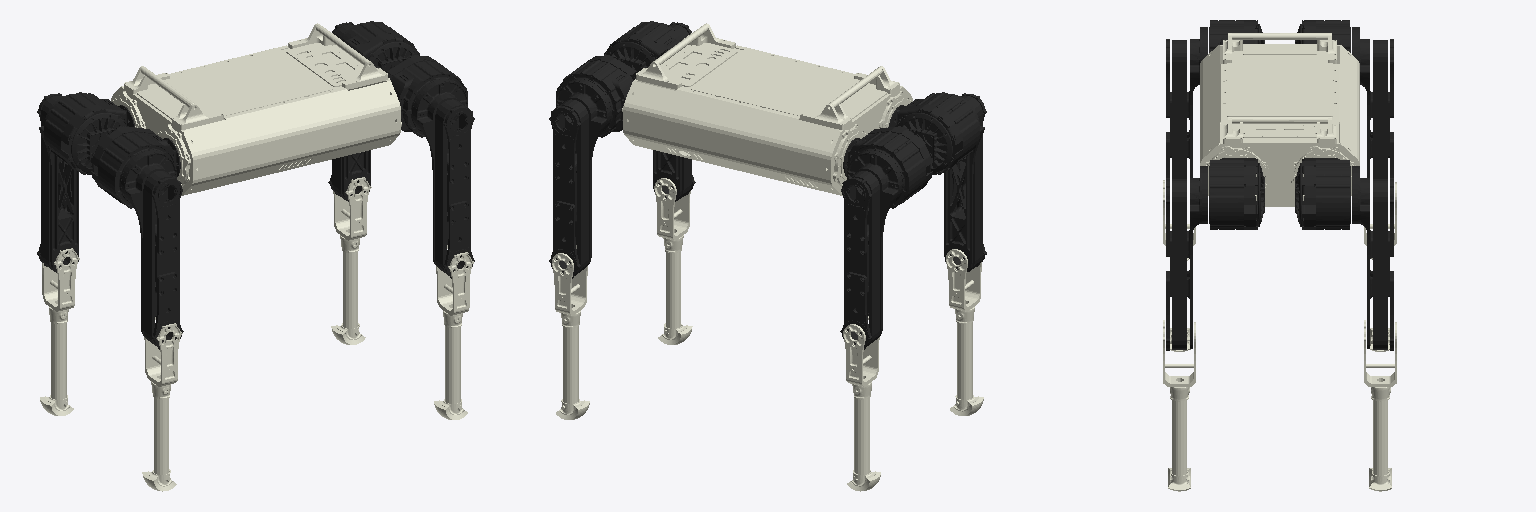
The robot description file, URDF, robot "Hound_description":
<?xml version="1.0" ?>

<robot name="Hound_description" xmlns:xacro="http://www.ros.org/wiki/xacro">
  <material name="black">
    <color rgba="0.0 0.0 0.0 1.0"/>
  </material>
  <material name="blue">
    <color rgba="0.0 0.0 0.8 1.0"/>
  </material>
  <material name="green">
    <color rgba="0.0 0.8 0.0 1.0"/>
  </material>
  <material name="grey">
    <color rgba="0.2 0.2 0.2 1.0"/>
  </material>
  <material name="silver">
    <color rgba="0.913725490196 0.913725490196 0.847058823529 1.0"/>
  </material>
  <material name="orange">
    <color rgba="1.0 0.423529411765 0.0392156862745 1.0"/>
  </material>
  <material name="brown">
    <color rgba="0.870588235294 0.811764705882 0.764705882353 1.0"/>
  </material>
  <material name="red">
    <color rgba="0.8 0.0 0.0 1.0"/>
  </material>
  <material name="white">
    <color rgba="1.0 1.0 1.0 1.0"/>
  </material>

  <link name="trunk">
    <visual>
      <origin rpy="0 0 0" xyz="0 0 0"/>
      <geometry>
        <mesh filename="base.stl" scale="1 1 1"/>
      </geometry>
      <material name="silver"/>
    </visual>
    <collision>
      <origin rpy="0 0 0" xyz="0 0 0"/>
      <geometry>
        <box size="0.55800000 0.28000000 0.16400000"/>
      </geometry>
    </collision>
    <inertial>
      <origin rpy="0 0 0" xyz="-0.00407276 0.00141638 0.00481511"/>
      <mass value="26.70000000"/>
      <inertia ixx="0.28785726" ixy="-0.00662284" ixz="-0.00388278" iyy="0.98299330" iyz="0.00122766" izz="1.16936671"/>
    </inertial>
  </link>

<!--
  <joint name="lidar_fixed" type="fixed">
    <origin rpy="0 0 0" xyz="0.4215 0 -0.070"/>
    <parent link="trunk"/>
    <child link="lidar"/>
  </joint>
  <link name="lidar">
    <visual>
      <origin rpy="0 0 0" xyz="0 0 0"/>
      <geometry>
        <mesh filename="lidar.stl" scale="1 1 1"/>
      </geometry>
      <material name="silver"/>
    </visual>
    <collision>
      <origin rpy="0 0 0" xyz="0.0486 0 0.042"/>
      <geometry>
        <box size="0.177 0.163 0.233"/>
      </geometry>
    </collision>
    <inertial>
      <origin rpy="0 0 0" xyz="0.05231314 0.00155470 0.03320621"/>
      <mass value="1.715"/>
      <inertia ixx="0.01284248" ixy="-0.00000496" ixz="0.00048574" iyy="0.01182010" iyz="-0.00012288" izz="0.00771190"/>
    </inertial>
  </link>

  <joint name="rear_cam_fixed" type="fixed">
    <origin rpy="0 0 0" xyz="-0.4215 0 -0.070"/>
    <parent link="trunk"/>
    <child link="rear_cam"/>
  </joint>
  <link name="rear_cam">
    <visual>
      <origin rpy="0 0 0" xyz="0 0 0"/>
      <geometry>
        <mesh filename="rear_cam.stl" scale="1 1 1"/>
      </geometry>
      <material name="silver"/>
    </visual>
    <collision>
      <origin rpy="0 0 0" xyz="0.0745 0 -0.020"/>
      <geometry>
        <box size="0.150 0.080 0.040"/>
      </geometry>
    </collision>
    <inertial>
      <origin rpy="0 0 0" xyz="0.07235258 -0.00001318 -0.01430797"/>
      <mass value="0.176"/>
      <inertia ixx="0.00008264" ixy="0.00000000" ixz="-0.00000147" iyy="0.00031979" iyz="0.00000000" izz="0.00038072"/>
    </inertial>
  </link>
-->

  <joint name="RR_roll_joint" type="revolute">
    <origin rpy="0 0 0" xyz="-0.37500000 -0.10000000 0.00000000"/>
    <parent link="trunk"/>
    <child link="RR_shoulder"/>
    <axis xyz="1 0 0"/>
    <dynamics rotor_inertia="0.01218780" damping="0" friction="0"/>
    <limit effort="180.00000000" lower="-0.78539816" upper="0.78539816" velocity="25.00000000"/>
  </joint>
  <link name="RR_shoulder">
    <visual>
      <origin rpy="0 3.141592 0" xyz="0 0 0"/>
      <geometry>
        <mesh filename="shoulder.stl" scale="1 1 1"/>
      </geometry>
      <material name="grey"/>
    </visual>
    <collision>
      <origin rpy="1.57079632679 0 0" xyz="0 -0.01750000 0"/>
      <geometry>
        <cylinder length="0.14500000" radius="0.08100000"/>
      </geometry>
    </collision>
    <inertial>
      <origin rpy="0 0 0" xyz="-0.00707032 0.02389593 -0.00006497"/>
      <mass value="3.97000000"/>
      <inertia ixx="0.00993164" ixy="-0.00033442" ixz="0.00000000" iyy="0.01580543" iyz="-0.00000000" izz="0.01211113"/>
    </inertial>
  </link>
  <joint name="RR_hip_joint" type="revolute">
    <origin rpy="0 0 0" xyz="0 -0.12860000 0"/>
    <parent link="RR_shoulder"/>
    <child link="RR_thigh"/>
    <axis xyz="0 1 0"/>
    <dynamics rotor_inertia="0.03253392" damping="0" friction="0"/>
    <limit effort="210.00000000" lower="-6.28318531" upper="6.28318531" velocity="25.00000000"/>
  </joint>
  <link name="RR_thigh">
    <visual>
      <origin rpy="0 0 0" xyz="0 0 0"/>
      <geometry>
        <mesh filename="thigh.stl" scale="1 1 1"/>
      </geometry>
      <material name="grey"/>
    </visual>
    <collision>
      <origin rpy="0 0 0" xyz="0 0 -0.17425000"/>
      <geometry>
        <box size="0.07800000 0.06900000 0.42100000"/>
      </geometry>
    </collision>
    <inertial>
      <origin rpy="0 0 0" xyz="0.00000000 0.02687059 -0.11906126"/>
      <mass value="1.54800000"/>
      <inertia ixx="0.02517926" ixy="0.00000000" ixz="0.00000000" iyy="0.02442722" iyz="-0.00415327" izz="0.00333936"/>
    </inertial>
  </link>

  <joint name="RR_knee_joint" type="revolute">
    <origin rpy="0 0 0" xyz="0 0 -0.34850000"/>
    <parent link="RR_thigh"/>
    <child link="RR_calf"/>
    <axis xyz="0 1 0"/>
    <dynamics rotor_inertia="knee_rotor_inertia" damping="0" friction="0"/>
    <limit effort="210.00000000" lower="-2.61799388" upper="2.61799388" velocity="25.00000000"/>
  </joint>
  <link name="RR_calf">
    <visual>
      <origin rpy="0 0 0" xyz="0 0 0"/>
      <geometry>
        <mesh filename="calf.stl" scale="1 1 1"/>
      </geometry>
      <material name="silver"/>
    </visual>
    <collision>
      <origin rpy="0 0 0" xyz="0 0 -0.20400000"/>
      <geometry>
        <cylinder length="0.29300000" radius="0.02500000"/>
      </geometry>
    </collision>
    <inertial>
      <origin rpy="0 0 0" xyz="0.00090971 0.08849968 -0.46118031"/>
      <mass value="0.71626982"/>
      <inertia ixx="0.01241845" ixy="0.00000000" ixz="-0.00016232" iyy="0.01220293" iyz="0.00002430" izz="0.00054562"/>
    </inertial>
  </link>
  <joint name="RR_foot_fixed" type="fixed">
    <origin rpy="0 0 0" xyz="0 0 -0.35050000"/>
    <parent link="RR_calf"/>
    <child link="RR_foot"/>
  </joint>
  <link name="RR_foot">
<!--
    <visual>
      <origin rpy="0 0 0" xyz="0 0 0"/>
      <geometry>
        <sphere radius="0.04100000"/>
      </geometry>
    </visual>
-->
    <collision>
      <origin rpy="0 0 0" xyz="0 0 0"/>
      <geometry>
        <sphere radius="0.04100000"/>
      </geometry>
    </collision>
    <inertial>
      <origin rpy="0 0 0" xyz="0.00000000 0.0 0.0"/>
      <mass value="0.1"/>
      <inertia ixx="0.001354125" ixy="-0.00000000" ixz="-0.000000058" iyy="0.001354008" iyz="-0.000000573" izz="0.000042390"/>
    </inertial>
  </link>

	
  <joint name="RL_roll_joint" type="revolute">
    <origin rpy="0 0 0" xyz="-0.37500000 0.10000000 0.00000000"/>
    <parent link="trunk"/>
    <child link="RL_shoulder"/>
    <axis xyz="1 0 0"/>
    <dynamics rotor_inertia="0.01218780" damping="0" friction="0"/>
    <limit effort="180.00000000" lower="-0.78539816" upper="0.78539816" velocity="25.00000000"/>
  </joint>
  <link name="RL_shoulder">
    <visual>
      <origin rpy="0 0 3.141592" xyz="0 0 0"/>
      <geometry>
        <mesh filename="shoulder.stl" scale="1 1 1"/>
      </geometry>
      <material name="grey"/>
    </visual>
    <collision>
      <origin rpy="1.57079632679 0 0" xyz="0 0.01750000 0"/>
      <geometry>
        <cylinder length="0.14500000" radius="0.08100000"/>
      </geometry>
    </collision>
    <inertial>
      <origin rpy="0 0 0" xyz="-0.00707032 -0.02389593 0.00006497"/>
      <mass value="3.97000000"/>
      <inertia ixx="0.00993164" ixy="0.00033442" ixz="-0.00000000" iyy="0.01580543" iyz="-0.00000000" izz="0.01211113"/>
    </inertial>
  </link>
  <joint name="RL_hip_joint" type="revolute">
    <origin rpy="0 0 0" xyz="0 0.12860000 0"/>
    <parent link="RL_shoulder"/>
    <child link="RL_thigh"/>
    <axis xyz="0 1 0"/>
    <dynamics rotor_inertia="0.03253392" damping="0" friction="0"/>
    <limit effort="210.00000000" lower="-6.28318531" upper="6.28318531" velocity="25.00000000"/>
  </joint>
  <link name="RL_thigh">
    <visual>
      <origin rpy="0 0 3.141592" xyz="0 0 0"/>
      <geometry>
        <mesh filename="thigh.stl" scale="1 1 1"/>
      </geometry>
      <material name="grey"/>
    </visual>
    <collision>
      <origin rpy="0 0 0" xyz="0 0 -0.17425000"/>
      <geometry>
        <box size="0.07800000 0.06900000 0.42100000"/>
      </geometry>
    </collision>
    <inertial>
      <origin rpy="0 0 0" xyz="-0.00000000 -0.02687059 -0.11906126"/>
      <mass value="1.54800000"/>
      <inertia ixx="0.02517926" ixy="0.00000000" ixz="-0.00000000" iyy="0.02442722" iyz="0.00415327" izz="0.00333936"/>
    </inertial>
  </link>
  <joint name="RL_knee_joint" type="revolute">
    <origin rpy="0 0 0" xyz="0 0 -0.34850000"/>
    <parent link="RL_thigh"/>
    <child link="RL_calf"/>
    <axis xyz="0 1 0"/>
    <dynamics rotor_inertia="knee_rotor_inertia" damping="0" friction="0"/>
    <limit effort="210.00000000" lower="-2.61799388" upper="2.61799388" velocity="25.00000000"/>
  </joint>
  <link name="RL_calf">
    <visual>
      <origin rpy="0 0 0" xyz="0 0 0"/>
      <geometry>
        <mesh filename="calf.stl" scale="1 1 1"/>
      </geometry>
      <material name="silver"/>
    </visual>
    <collision>
      <origin rpy="0 0 0" xyz="0 0 -0.20400000"/>
      <geometry>
        <cylinder length="0.29300000" radius="0.02500000"/>
      </geometry>
    </collision>
    <inertial>
      <origin rpy="0 0 0" xyz="0.00090971 -0.08849968 -0.46118031"/>
      <mass value="0.71626982"/>
      <inertia ixx="0.01241845" ixy="-0.00000000" ixz="-0.00016232" iyy="0.01220293" iyz="-0.00002430" izz="0.00054562"/>
    </inertial>
  </link>
  <joint name="RL_foot_fixed" type="fixed">
    <origin rpy="0 0 0" xyz="0 0 -0.35050000"/>
    <parent link="RL_calf"/>
    <child link="RL_foot"/>
  </joint>
  <link name="RL_foot">
<!--
    <visual>
      <origin rpy="0 0 0" xyz="0 0 0"/>
      <geometry>
        <sphere radius="0.04100000"/>
      </geometry>
    </visual>
-->
    <collision>
      <origin rpy="0 0 0" xyz="0 0 0"/>
      <geometry>
        <sphere radius="0.04100000"/>
      </geometry>
    </collision>
    <inertial>
      <origin rpy="0 0 0" xyz="0.00000000 0.0 0.0"/>
      <mass value="0.1"/>
      <inertia ixx="0.001354125" ixy="-0.00000000" ixz="-0.000000058" iyy="0.001354008" iyz="-0.000000573" izz="0.000042390"/>
    </inertial>
  </link>


  <joint name="FR_roll_joint" type="revolute">
    <origin rpy="0 0 0" xyz="0.37500000 -0.10000000 0.00000000"/>
    <parent link="trunk"/>
    <child link="FR_shoulder"/>
    <axis xyz="1 0 0"/>
    <dynamics rotor_inertia="0.01218780" damping="0" friction="0"/>
    <limit effort="180.00000000" lower="-0.78539816" upper="0.78539816" velocity="25.00000000"/>
  </joint>
  <link name="FR_shoulder">
    <visual>
      <origin rpy="0 0 0" xyz="0 0 0"/>
      <geometry>
        <mesh filename="shoulder.stl" scale="1 1 1"/>
      </geometry>
      <material name="grey"/>
    </visual>
    <collision>
      <origin rpy="1.57079632679 0 0" xyz="0 -0.01750000 0"/>
      <geometry>
        <cylinder length="0.14500000" radius="0.08100000"/>
      </geometry>
    </collision>
    <inertial>
      <origin rpy="0 0 0" xyz="0.00707032 0.02389593 0.00006497"/>
      <mass value="3.97000000"/>
      <inertia ixx="0.00993164" ixy="0.00033442" ixz="0.00000000" iyy="0.01580543" iyz="0.00000000" izz="0.01211113"/>
    </inertial>
  </link>
  <joint name="FR_hip_joint" type="revolute">
    <origin rpy="0 0 0" xyz="0 -0.12860000 0"/>
    <parent link="FR_shoulder"/>
    <child link="FR_thigh"/>
    <axis xyz="0 1 0"/>
    <dynamics rotor_inertia="0.03253392" damping="0" friction="0"/>
    <limit effort="210.00000000" lower="-6.28318531" upper="6.28318531" velocity="25.00000000"/>
  </joint>
  <link name="FR_thigh">
    <visual>
      <origin rpy="0 0 0" xyz="0 0 0"/>
      <geometry>
        <mesh filename="thigh.stl" scale="1 1 1"/>
      </geometry>
      <material name="grey"/>
    </visual>
    <collision>
      <origin rpy="0 0 0" xyz="0 0 -0.17425000"/>
      <geometry>
        <box size="0.07800000 0.06900000 0.42100000"/>
      </geometry>
    </collision>
    <inertial>
      <origin rpy="0 0 0" xyz="0.00000000 0.02687059 -0.11906126"/>
      <mass value="1.54800000"/>
      <inertia ixx="0.02517926" ixy="0.00000000" ixz="0.00000000" iyy="0.02442722" iyz="-0.00415327" izz="0.00333936"/>
    </inertial>
  </link>
  <joint name="FR_knee_joint" type="revolute">
    <origin rpy="0 0 0" xyz="0 0 -0.34850000"/>
    <parent link="FR_thigh"/>
    <child link="FR_calf"/>
    <axis xyz="0 1 0"/>
    <dynamics rotor_inertia="knee_rotor_inertia" damping="0" friction="0"/>
    <limit effort="210.00000000" lower="-2.61799388" upper="2.61799388" velocity="25.00000000"/>
  </joint>
  <link name="FR_calf">
    <visual>
      <origin rpy="0 0 0" xyz="0 0 0"/>
      <geometry>
        <mesh filename="calf.stl" scale="1 1 1"/>
      </geometry>
      <material name="silver"/>
    </visual>
    <collision>
      <origin rpy="0 0 0" xyz="0 0 -0.20400000"/>
      <geometry>
        <cylinder length="0.29300000" radius="0.02500000"/>
      </geometry>
    </collision>
    <inertial>
      <origin rpy="0 0 0" xyz="0.00090971 0.08849968 -0.46118031"/>
      <mass value="0.71626982"/>
      <inertia ixx="0.01241845" ixy="0.00000000" ixz="-0.00016232" iyy="0.01220293" iyz="0.00002430" izz="0.00054562"/>
    </inertial>
  </link>
  <joint name="FR_foot_fixed" type="fixed">
    <origin rpy="0 0 0" xyz="0 0 -0.35050000"/>
    <parent link="FR_calf"/>
    <child link="FR_foot"/>
  </joint>
  <link name="FR_foot">
<!--
    <visual>
      <origin rpy="0 0 0" xyz="0 0 0"/>
      <geometry>
        <sphere radius="0.04100000"/>
      </geometry>
    </visual>
-->
    <collision>
      <origin rpy="0 0 0" xyz="0 0 0"/>
      <geometry>
        <sphere radius="0.04100000"/>
      </geometry>
    </collision>
    <inertial>
      <origin rpy="0 0 0" xyz="0.00000000 0.0 0.0"/>
      <mass value="0.1"/>
      <inertia ixx="0.001354125" ixy="-0.00000000" ixz="-0.000000058" iyy="0.001354008" iyz="-0.000000573" izz="0.000042390"/>
    </inertial>
  </link>


  <joint name="FL_roll_joint" type="revolute">
    <origin rpy="0 0 0" xyz="0.37500000 0.10000000 0.00000000"/>
    <parent link="trunk"/>
    <child link="FL_shoulder"/>
    <axis xyz="1 0 0"/>
    <dynamics rotor_inertia="0.01218780" damping="0" friction="0"/>
    <limit effort="180.00000000" lower="-0.78539816" upper="0.78539816" velocity="25.00000000"/>
  </joint>
  <link name="FL_shoulder">
    <visual>
      <origin rpy="3.141592 0 0" xyz="0 0 0"/>
      <geometry>
        <mesh filename="shoulder.stl" scale="1 1 1"/>
      </geometry>
      <material name="grey"/>
    </visual>
    <collision>
      <origin rpy="1.57079632679 0 0" xyz="0 0.01750000 0"/>
      <geometry>
        <cylinder length="0.14500000" radius="0.08100000"/>
      </geometry>
    </collision>
    <inertial>
      <origin rpy="0 0 0" xyz="0.00707032 -0.02389593 -0.00006497"/>
      <mass value="3.97000000"/>
      <inertia ixx="0.00993164" ixy="-0.00033442" ixz="-0.00000000" iyy="0.01580543" iyz="0.00000000" izz="0.01211113"/>
    </inertial>
  </link>
  <joint name="FL_hip_joint" type="revolute">
    <origin rpy="0 0 0" xyz="0 0.12860000 0"/>
    <parent link="FL_shoulder"/>
    <child link="FL_thigh"/>
    <axis xyz="0 1 0"/>
    <dynamics rotor_inertia="0.03253392" damping="0" friction="0"/>
    <limit effort="210.00000000" lower="-6.28318531" upper="6.28318531" velocity="25.00000000"/>
  </joint>
  <link name="FL_thigh">
    <visual>
      <origin rpy="0 0 3.141592" xyz="0 0 0"/>
      <geometry>
        <mesh filename="thigh.stl" scale="1 1 1"/>
      </geometry>
      <material name="grey"/>
    </visual>
    <collision>
      <origin rpy="0 0 0" xyz="0 0 -0.17425000"/>
      <geometry>
        <box size="0.07800000 0.06900000 0.42100000"/>
      </geometry>
    </collision>
    <inertial>
      <origin rpy="0 0 0" xyz="-0.00000000 -0.02687059 -0.11906126"/>
      <mass value="1.54800000"/>
      <inertia ixx="0.02517926" ixy="0.00000000" ixz="-0.00000000" iyy="0.02442722" iyz="0.00415327" izz="0.00333936"/>
    </inertial>
  </link>
  <joint name="FL_knee_joint" type="revolute">
    <origin rpy="0 0 0" xyz="0 0 -0.34850000"/>
    <parent link="FL_thigh"/>
    <child link="FL_calf"/>
    <axis xyz="0 1 0"/>
    <dynamics rotor_inertia="knee_rotor_inertia" damping="0" friction="0"/>
    <limit effort="210.00000000" lower="-2.61799388" upper="2.61799388" velocity="25.00000000"/>
  </joint>
  <link name="FL_calf">
    <visual>
      <origin rpy="0 0 0" xyz="0 0 0"/>
      <geometry>
        <mesh filename="calf.stl" scale="1 1 1"/>
      </geometry>
      <material name="silver"/>
    </visual>
    <collision>
      <origin rpy="0 0 0" xyz="0 0 -0.20400000"/>
      <geometry>
        <cylinder length="0.29300000" radius="0.02500000"/>
      </geometry>
    </collision>
    <inertial>
      <origin rpy="0 0 0" xyz="0.00090971 -0.08849968 -0.46118031"/>
      <mass value="0.71626982"/>
      <inertia ixx="0.01241845" ixy="-0.00000000" ixz="-0.00016232" iyy="0.01220293" iyz="-0.00002430" izz="0.00054562"/>
    </inertial>
  </link>
  <joint name="FL_foot_fixed" type="fixed">
    <origin rpy="0 0 0" xyz="0 0 -0.35050000"/>
    <parent link="FL_calf"/>
    <child link="FL_foot"/>
  </joint>
  <link name="FL_foot">
<!--
    <visual>
      <origin rpy="0 0 0" xyz="0 0 0"/>
      <geometry>
        <sphere radius="0.04100000"/>
      </geometry>
    </visual>
-->
    <collision>
      <origin rpy="0 0 0" xyz="0 0 0"/>
      <geometry>
        <sphere radius="0.04100000"/>
      </geometry>
    </collision>
    <inertial>
      <origin rpy="0 0 0" xyz="0.00000000 0.0 0.0"/>
      <mass value="0.1"/>
      <inertia ixx="0.001354125" ixy="-0.00000000" ixz="-0.000000058" iyy="0.001354008" iyz="-0.000000573" izz="0.000042390"/>
    </inertial>
  </link>


</robot>

--- Facts derived from the render (not from the file) ---
3 views of the same robot in one strip: view 1: azimuth 30°, elevation 25°; view 2: azimuth 150°, elevation 25°; view 3: azimuth 270°, elevation 25° (orthographic).
Robot: Hound_description — 17 links, 16 joints (12 revolute, 4 fixed); root link trunk; default pose: all joints at 0.
Links seen in each view (by area): view 1: trunk, RR_thigh, FR_thigh, RL_thigh, RL_shoulder, FR_calf, RL_calf, RR_calf, FL_calf, RR_shoulder, FR_shoulder, FL_shoulder (+1 smaller); view 2: trunk, RL_thigh, FL_thigh, RR_thigh, RR_shoulder, RL_calf, FL_calf, RR_calf, FR_calf, RL_shoulder, FL_shoulder, FR_shoulder (+1 smaller); view 3: trunk, FR_thigh, FL_thigh, FR_shoulder, FL_shoulder, RR_thigh, RL_thigh, FL_calf, FR_calf, RR_shoulder, RL_shoulder.
Boxes of the visible links, <box> form: trunk: <box>111,23,401,195</box>; RR_thigh: <box>124,152,183,349</box>; FR_thigh: <box>416,81,474,278</box>; RL_thigh: <box>37,93,78,272</box>; RL_shoulder: <box>44,92,134,174</box>; FR_calf: <box>434,245,473,419</box>; RL_calf: <box>40,248,79,415</box>; RR_calf: <box>142,317,182,491</box>; FL_calf: <box>331,177,371,344</box>; RR_shoulder: <box>91,126,180,208</box>; FR_shoulder: <box>386,55,467,137</box>; FL_shoulder: <box>342,21,419,77</box>; trunk: <box>622,23,912,195</box>; RL_thigh: <box>840,152,899,349</box>; FL_thigh: <box>549,81,607,278</box>; RR_thigh: <box>944,93,986,271</box>; RR_shoulder: <box>889,92,979,174</box>; RL_calf: <box>843,316,880,491</box>; FL_calf: <box>552,245,589,419</box>; RR_calf: <box>946,249,983,415</box>; FR_calf: <box>654,178,694,344</box>; RL_shoulder: <box>843,126,932,208</box>; FL_shoulder: <box>556,55,637,137</box>; FR_shoulder: <box>604,21,681,77</box>; trunk: <box>1200,33,1359,206</box>; FR_thigh: <box>1166,166,1201,350</box>; FL_thigh: <box>1358,166,1393,350</box>; FR_shoulder: <box>1202,158,1264,229</box>; FL_shoulder: <box>1295,158,1357,229</box>; RR_thigh: <box>1166,27,1201,178</box>; RL_thigh: <box>1358,27,1393,178</box>; FL_calf: <box>1364,320,1396,491</box>; FR_calf: <box>1163,320,1195,491</box>; RR_shoulder: <box>1202,20,1264,59</box>; RL_shoulder: <box>1295,20,1357,59</box>.
Bounding box of the posed robot: 0.9096 × 0.5342 × 0.8656 m (x, y, z).
Meshes: 4 distinct files referenced, 13 mesh visuals loaded (4 binary STL).